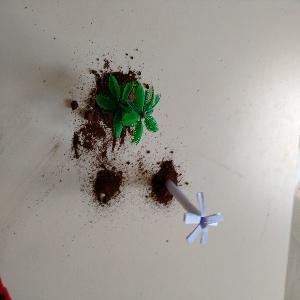plant: (89, 71, 163, 145)
weed: (156, 164, 224, 246)
